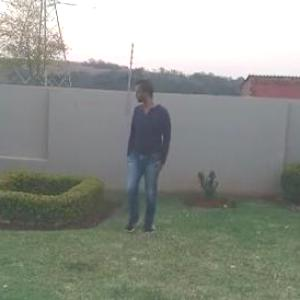follow: (117, 73, 169, 252)
